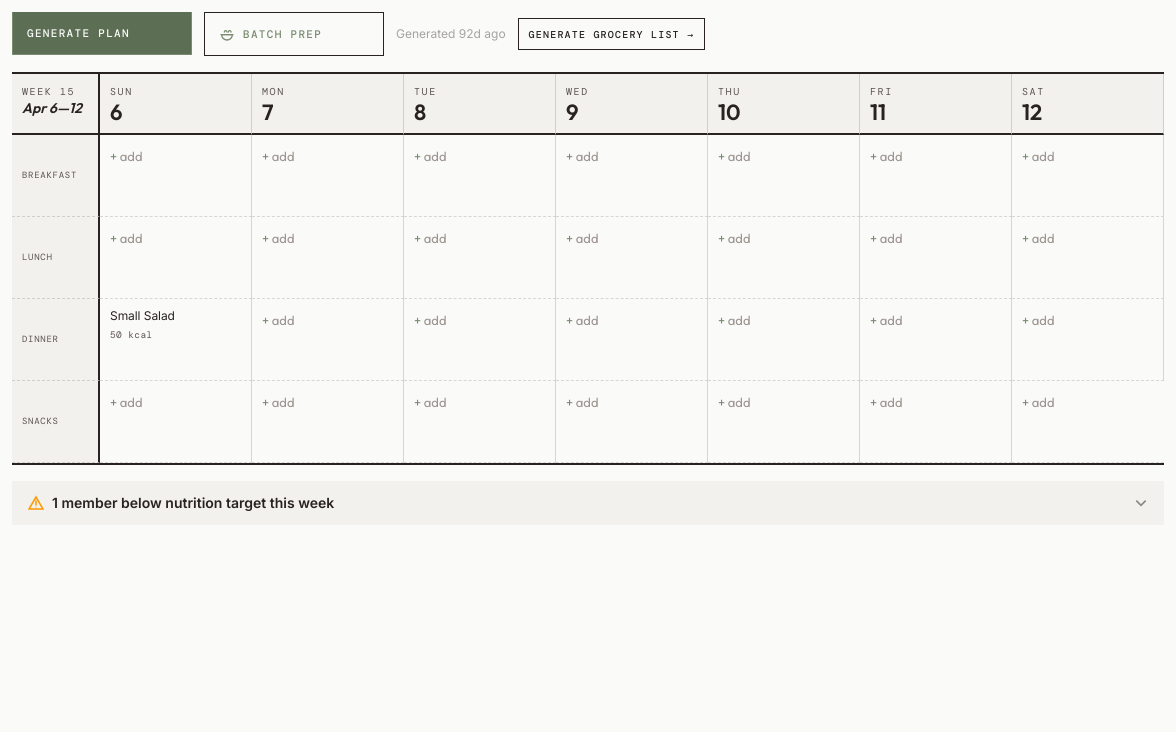
PlanGrid NutritionGapCard render and swap wiring (Gap C) › expanding the gap card shows the gap row with member and nutrient percentage
// Click the summary button to expand
Click the button "1 member below nutrition target this week" at (85, 502), box [12, 481, 1164, 525]
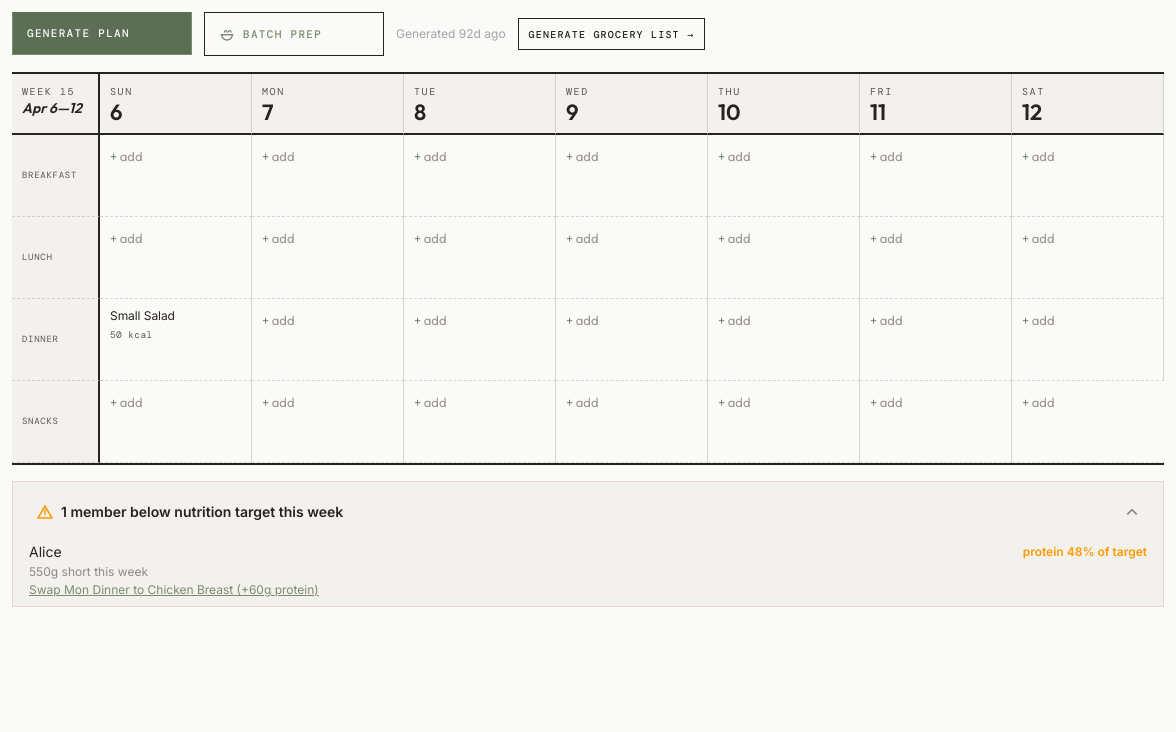
Check: the text "Alice" is shown, box [29, 542, 62, 562]
Check: the text "protein 48% of target" is shown, box [1023, 544, 1147, 560]
